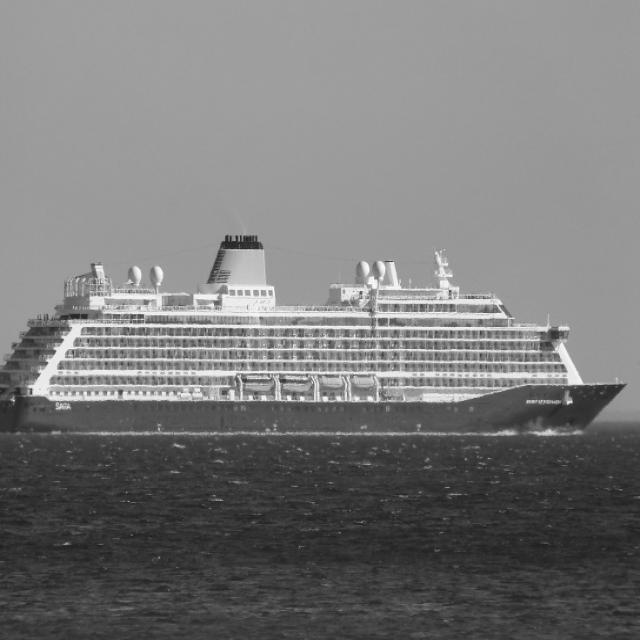cruises: (1, 233, 631, 446)
